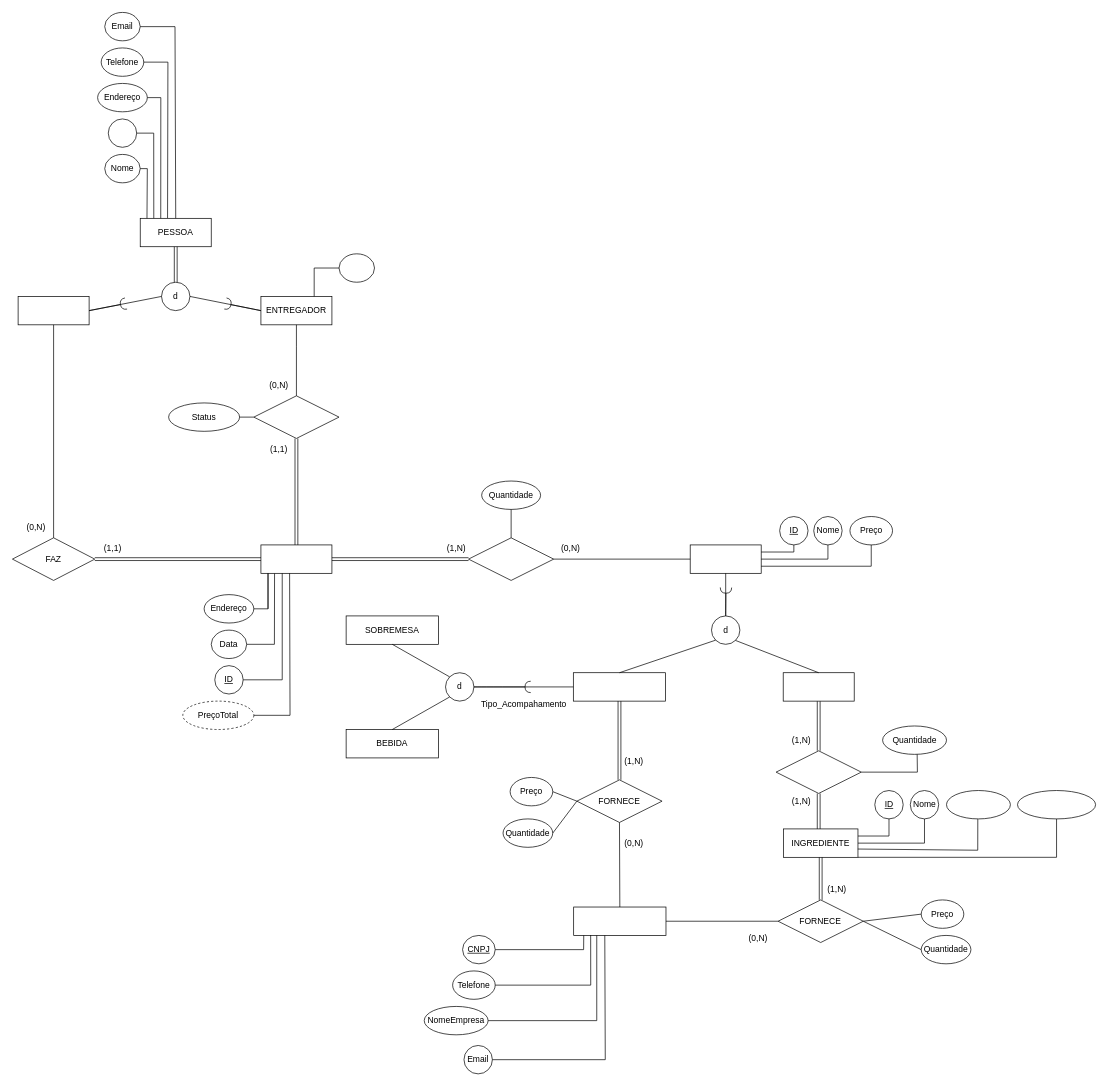
The diagram is 1108 pixels wide and 1086 high, and some of its shapes have lost their labels. Each missing label, with the centre of its shape:
ACOMPANHAMENTO: the point at 619,686
CLIENTE: the point at 53,310
CONTÉM: the point at 511,558
CPF: the point at 122,132
ENTREGA: the point at 296,416
FORNECEDOR: the point at 619,920
INCLUI: the point at 818,771
ITEM: the point at 725,558
PEDIDO: the point at 296,558
PIZZA: the point at 818,686
PreçoUnidade: the point at 978,804
Salário: the point at 356,267
UnidadeMedida: the point at 1056,804
